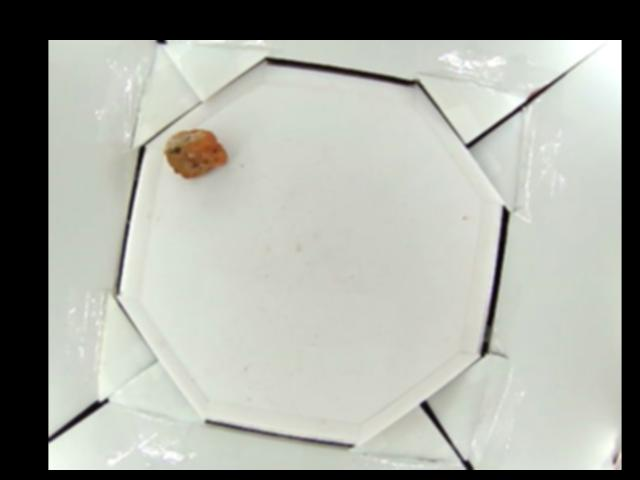Brisk: (163, 127, 230, 177)
